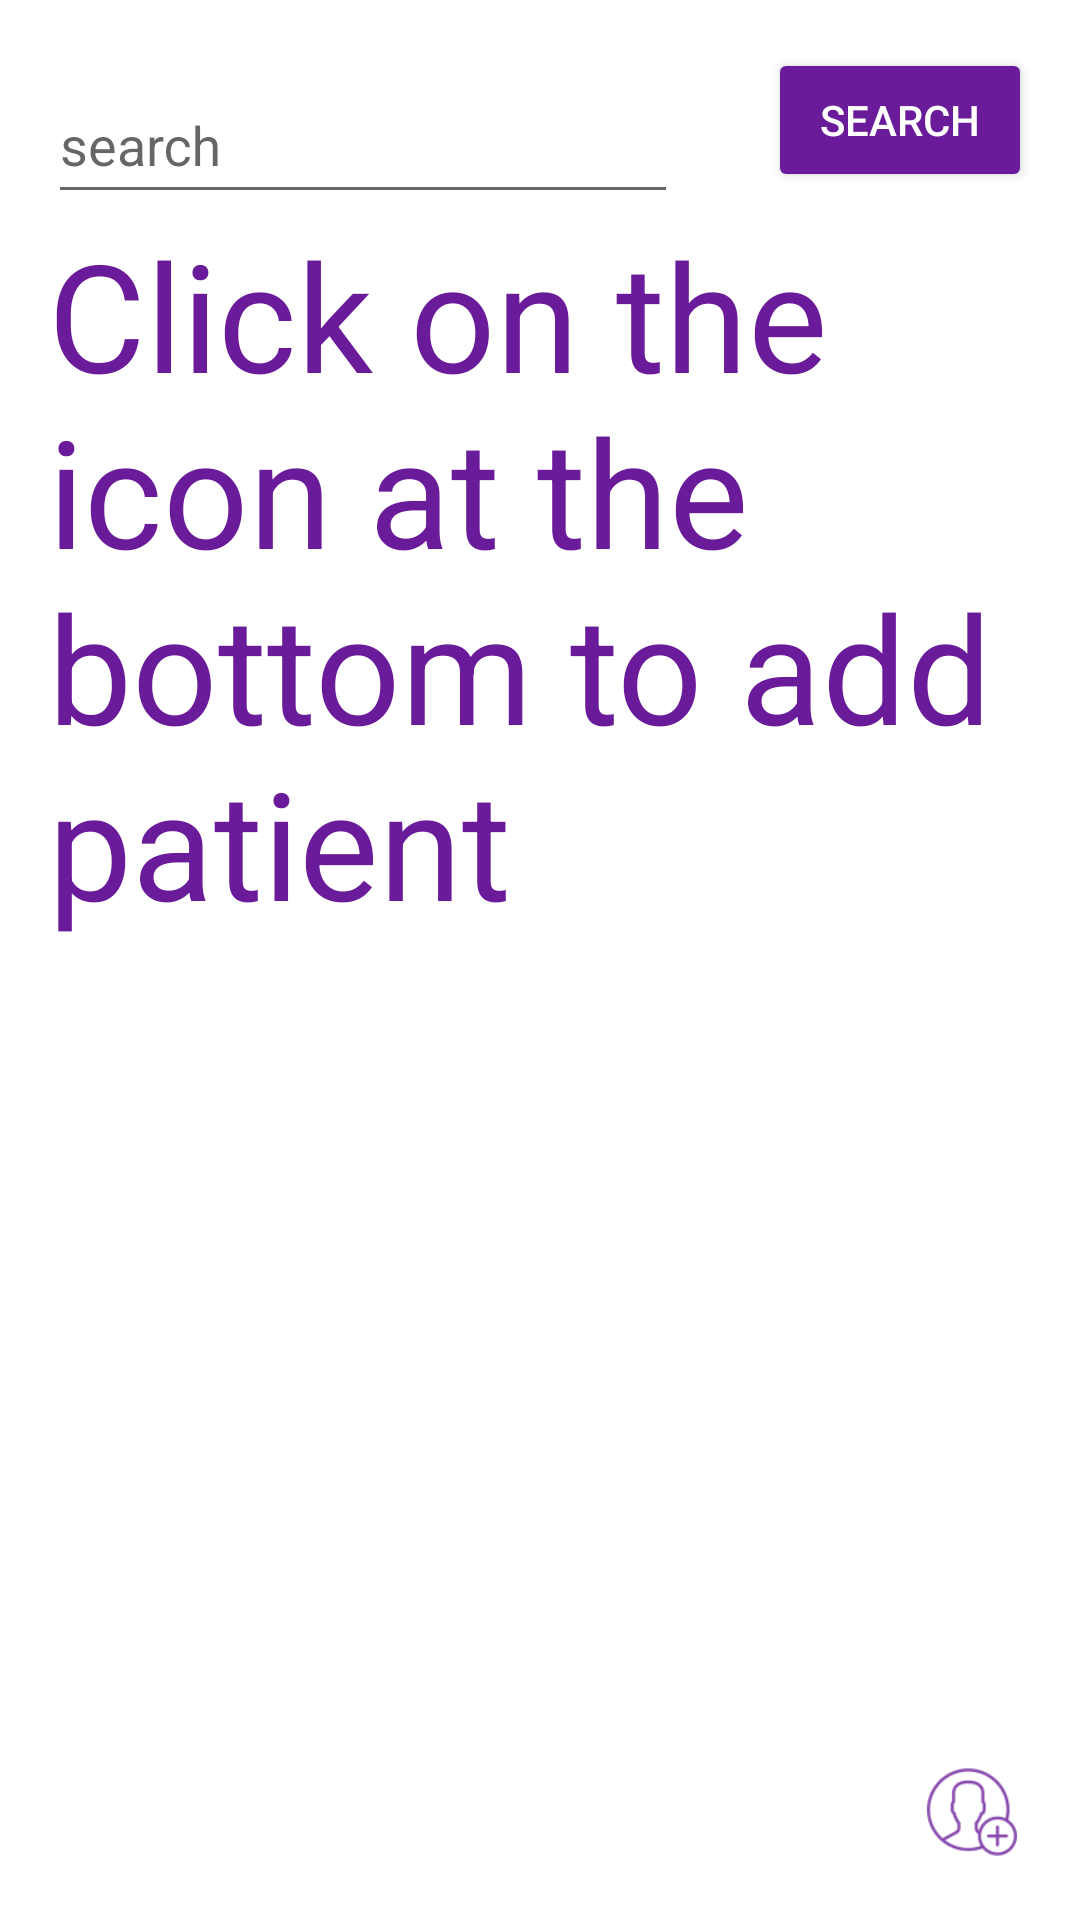

Where icons sit on this 1080w x 1920h app screen, as (x1,y1,x2,y2):
newp: (927,1768,1017,1856)
